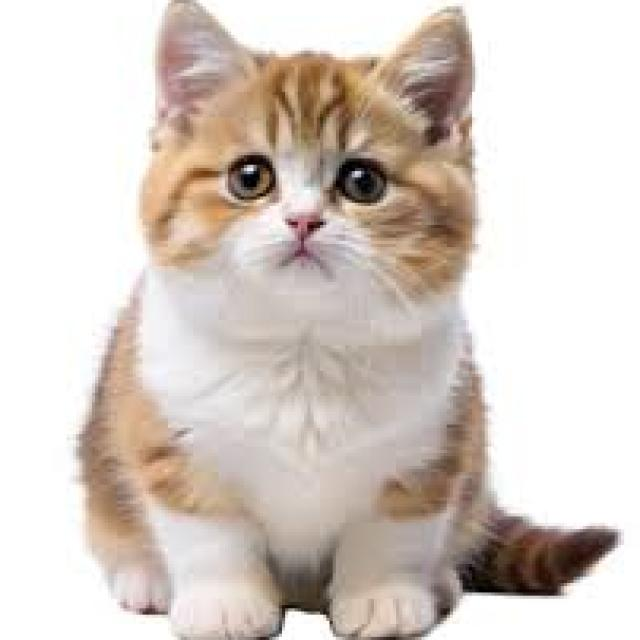Munchkin: (63, 0, 621, 640)
